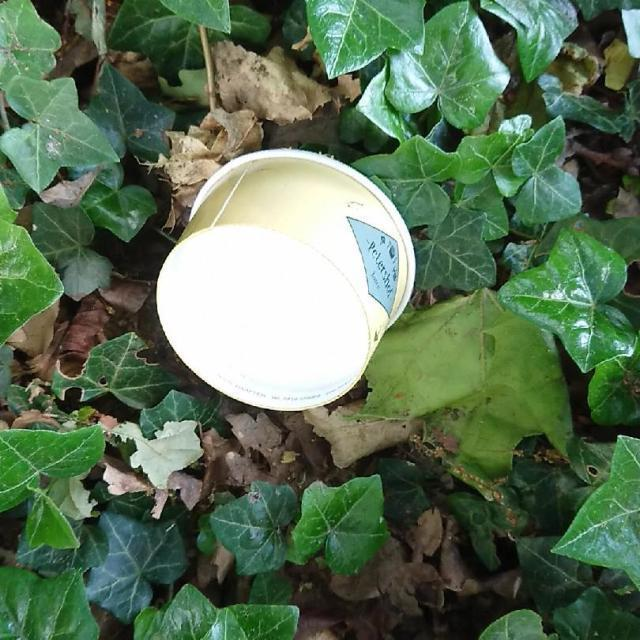Paper: (153, 152, 414, 407)
